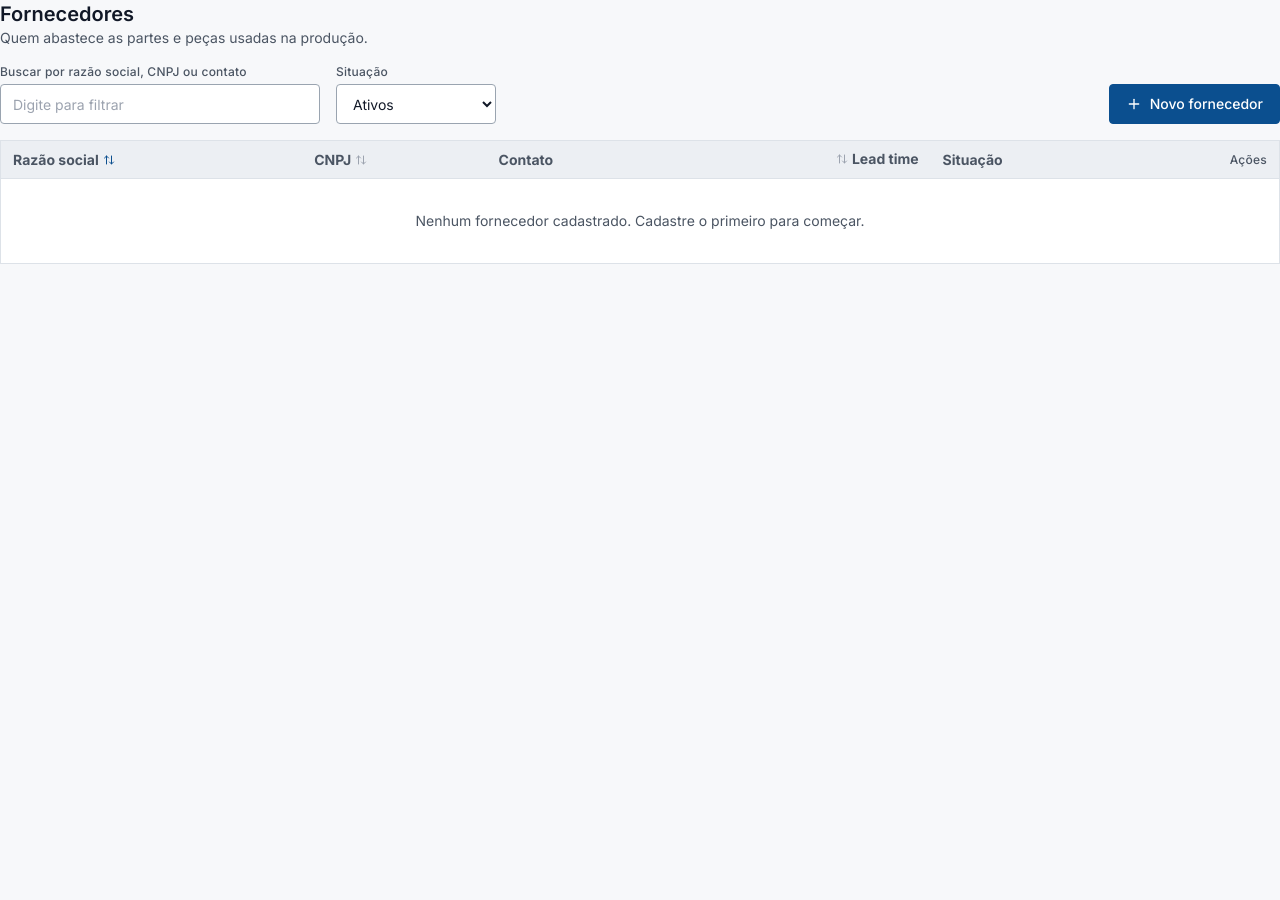
Test: Fornecedores › conflito 409 mostra alerta e mantem o modal aberto
Expected: the text "Nenhum fornecedor cadastrado" is shown, [416, 212, 864, 229]
Click the button "Novo fornecedor" at (1194, 104), box [1109, 84, 1279, 124]
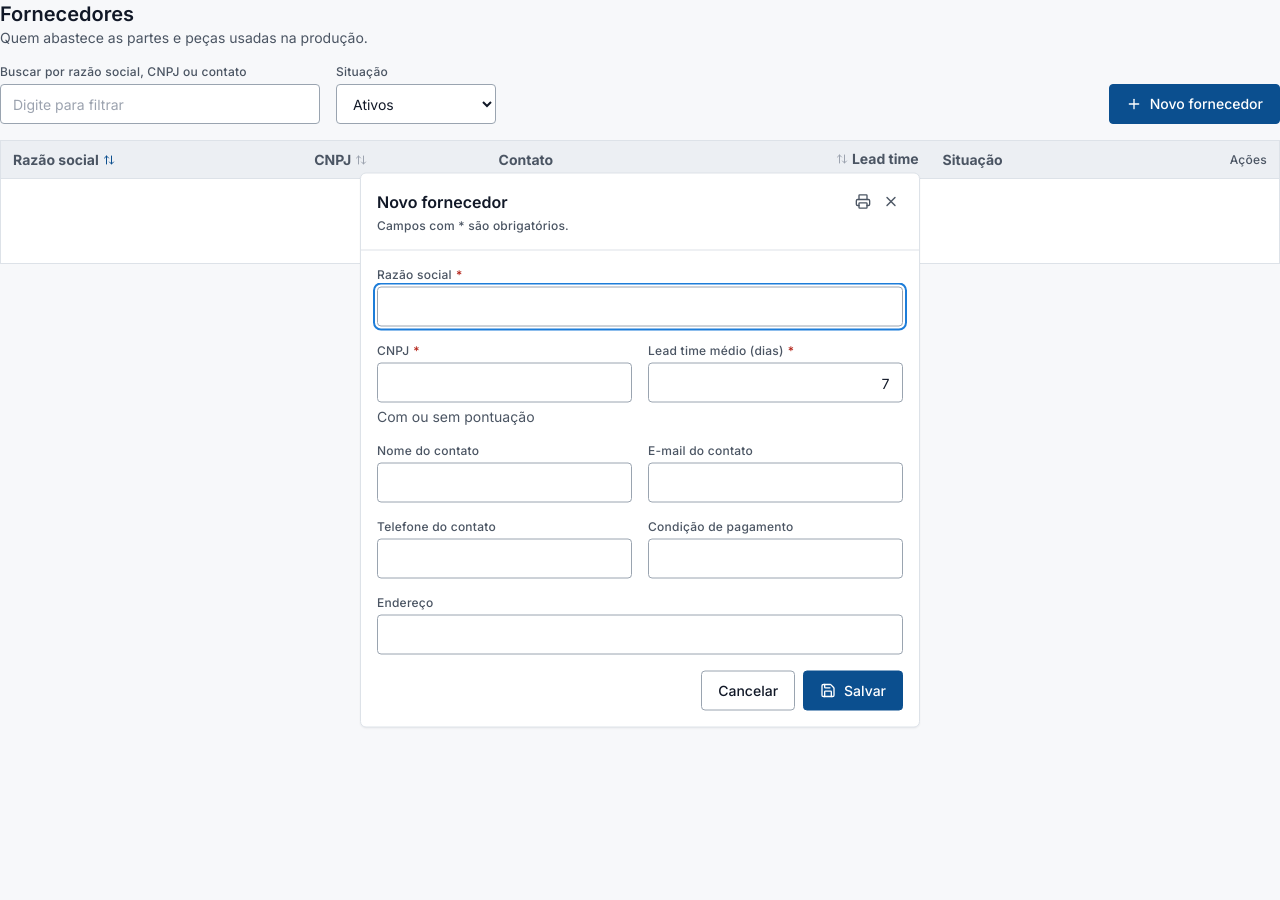
Type "Componentes Eletronicos LTDA" into the field labelled "Razão social*" at (640, 306), box [377, 286, 903, 326]
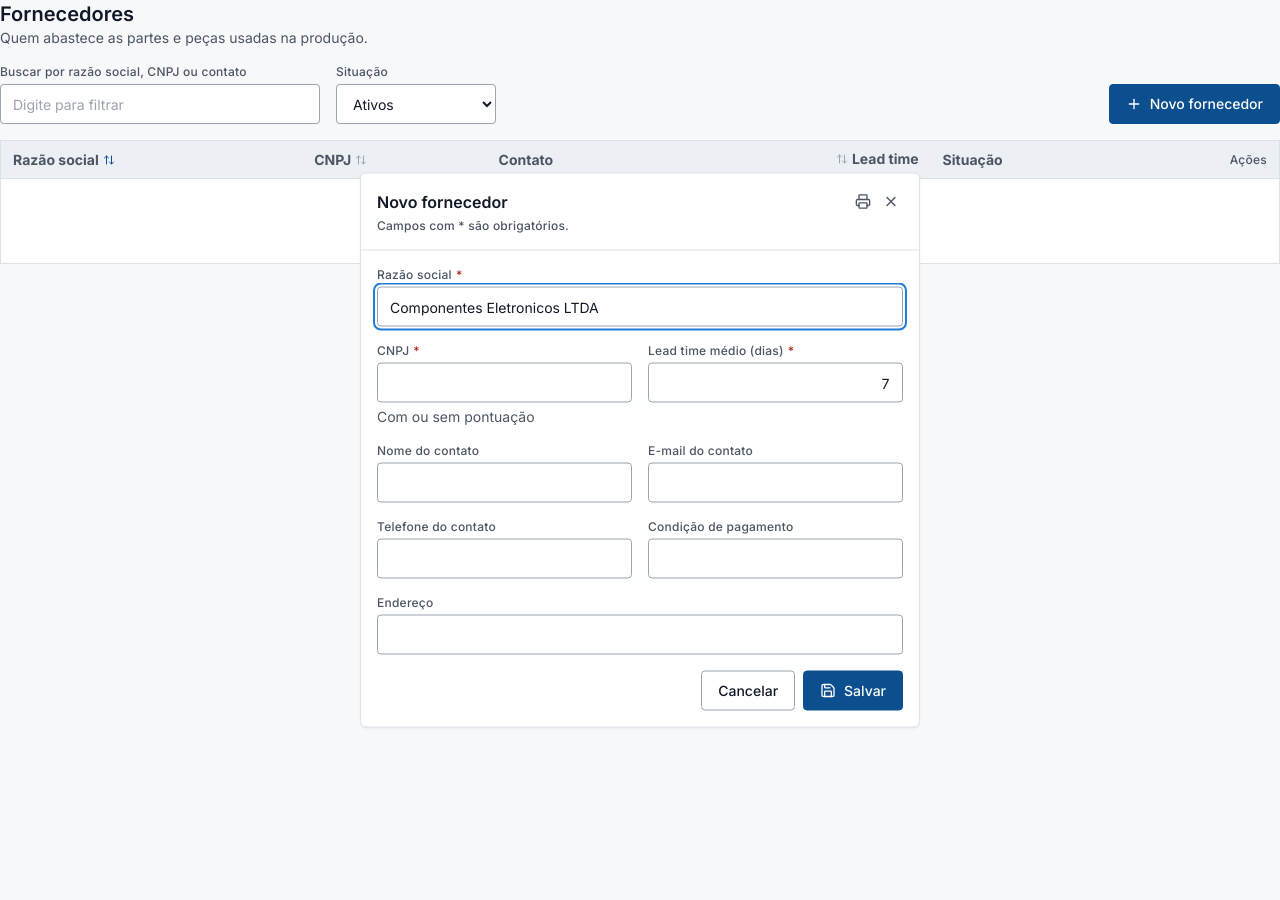
Type "11222333000181" into the field labelled "CNPJ*" at (504, 382), box [377, 362, 632, 402]
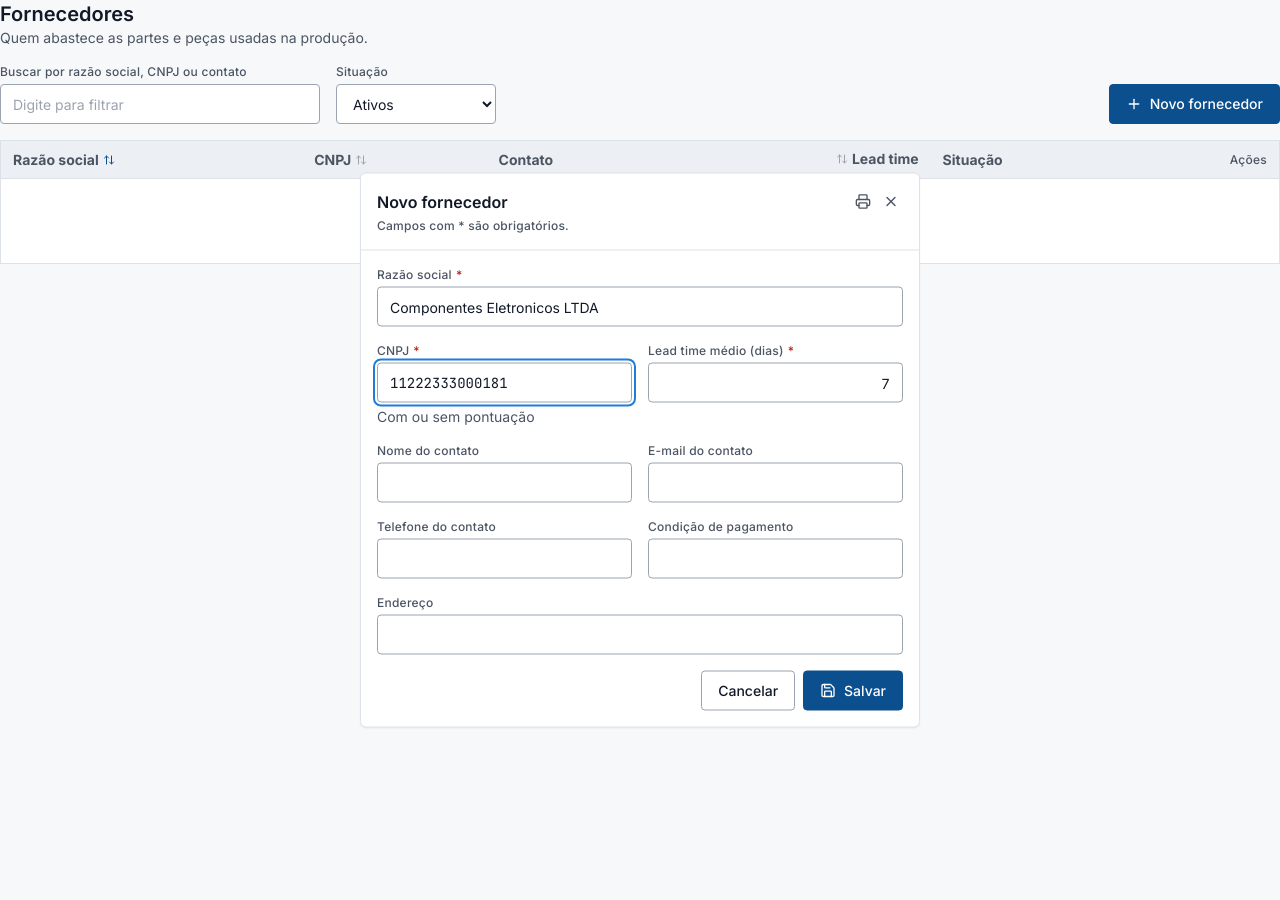
Click the button "Salvar" at (853, 690), box [803, 670, 903, 710]
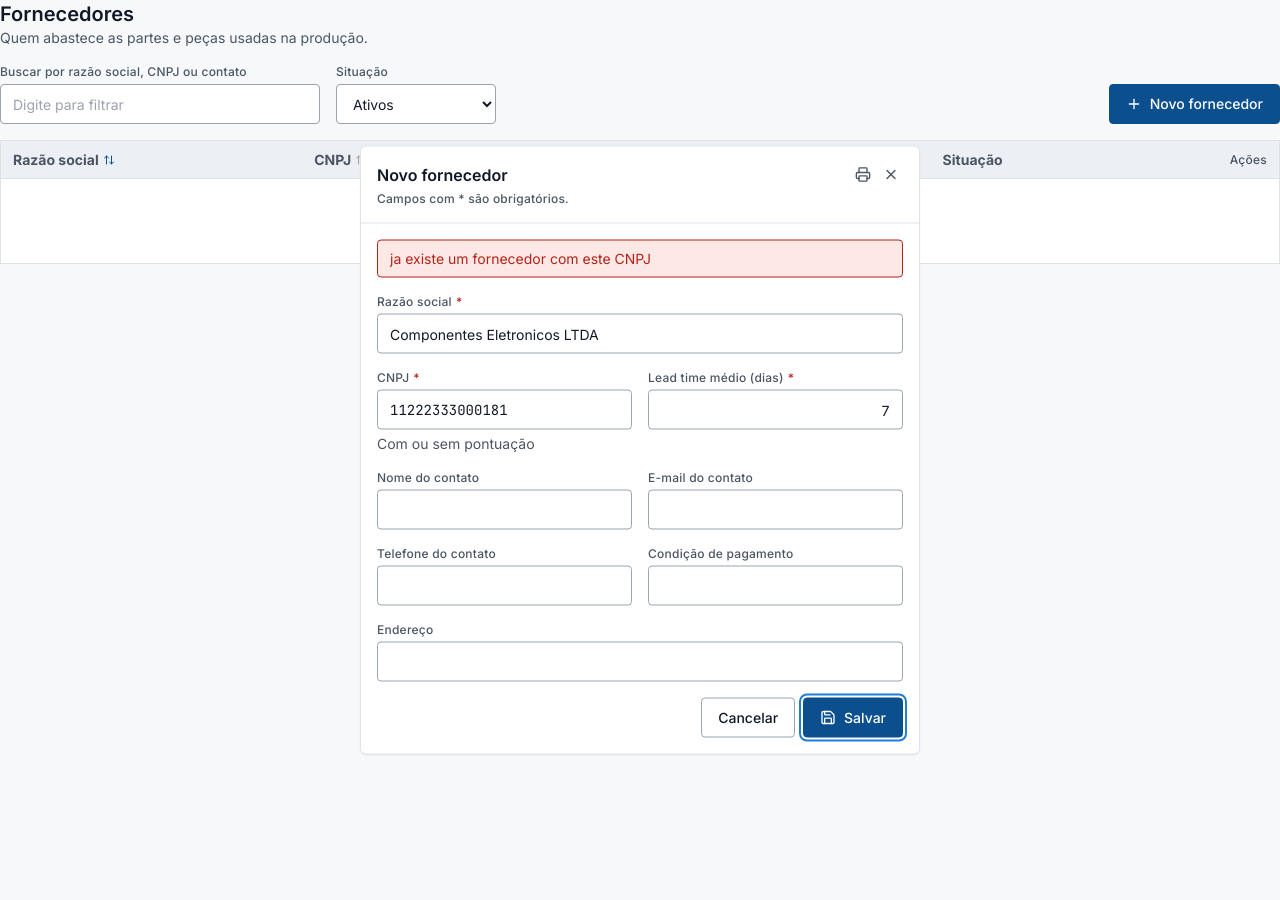
Result: the dialog "Novo fornecedor" is shown at [360, 146, 920, 754]
Result: the message reads "ja existe um fornecedor com este CNPJ" at [390, 250, 651, 266]
